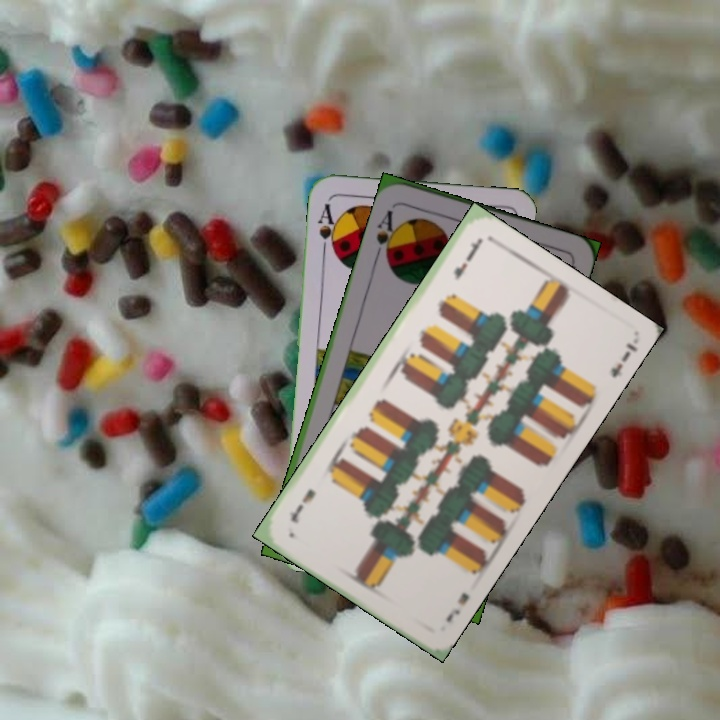E7: (449, 235, 484, 283), (441, 588, 472, 625)
SA: (371, 206, 402, 262), (314, 200, 340, 257)
